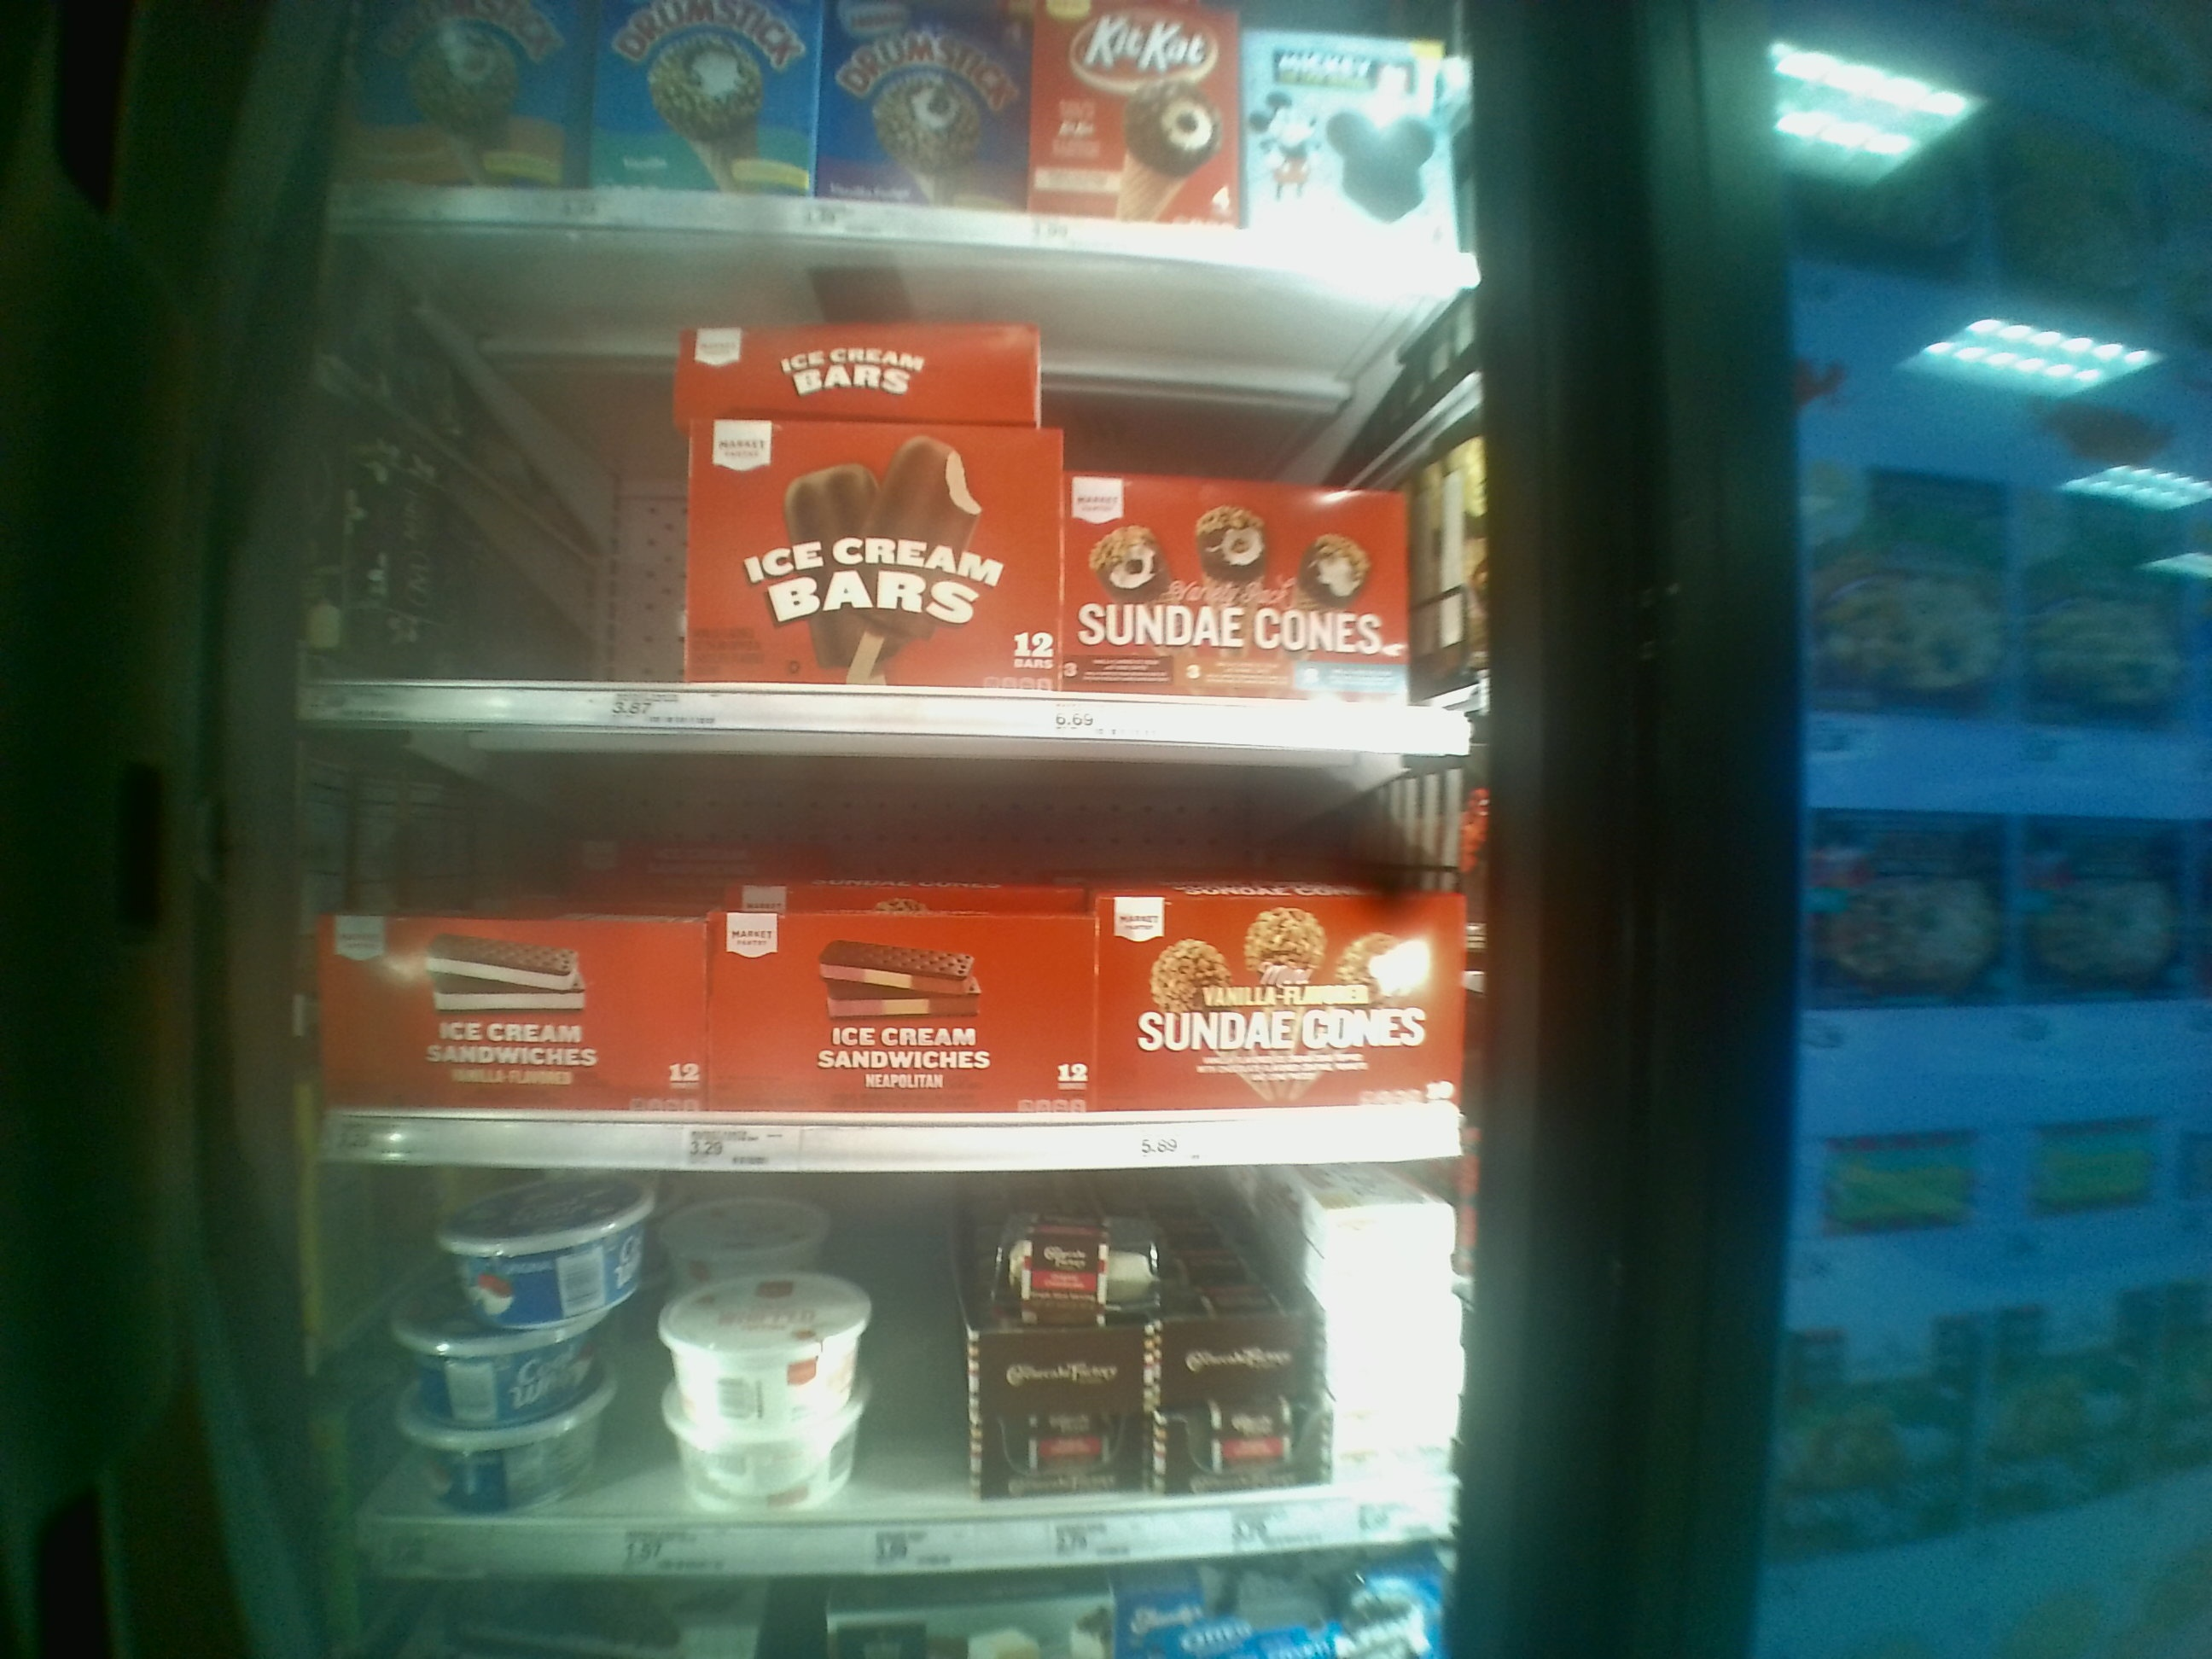shelf: (294, 267, 1498, 751), (303, 732, 1505, 1171), (303, 1171, 1501, 1579)
